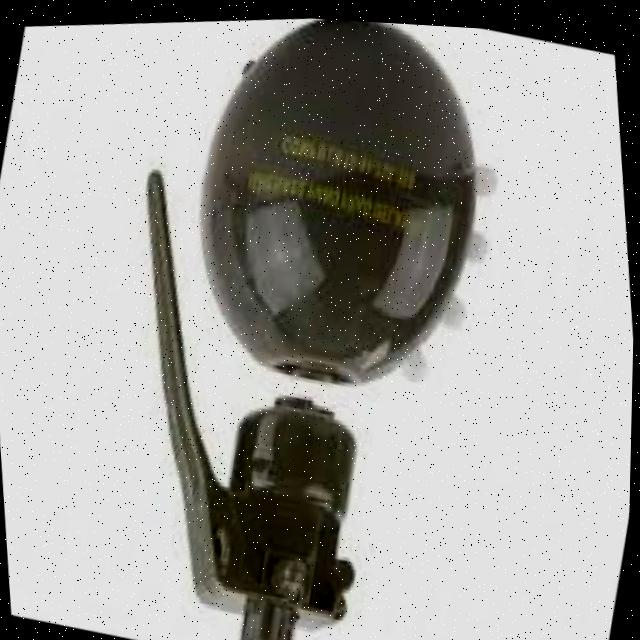grenade: (21, 1, 574, 640)
